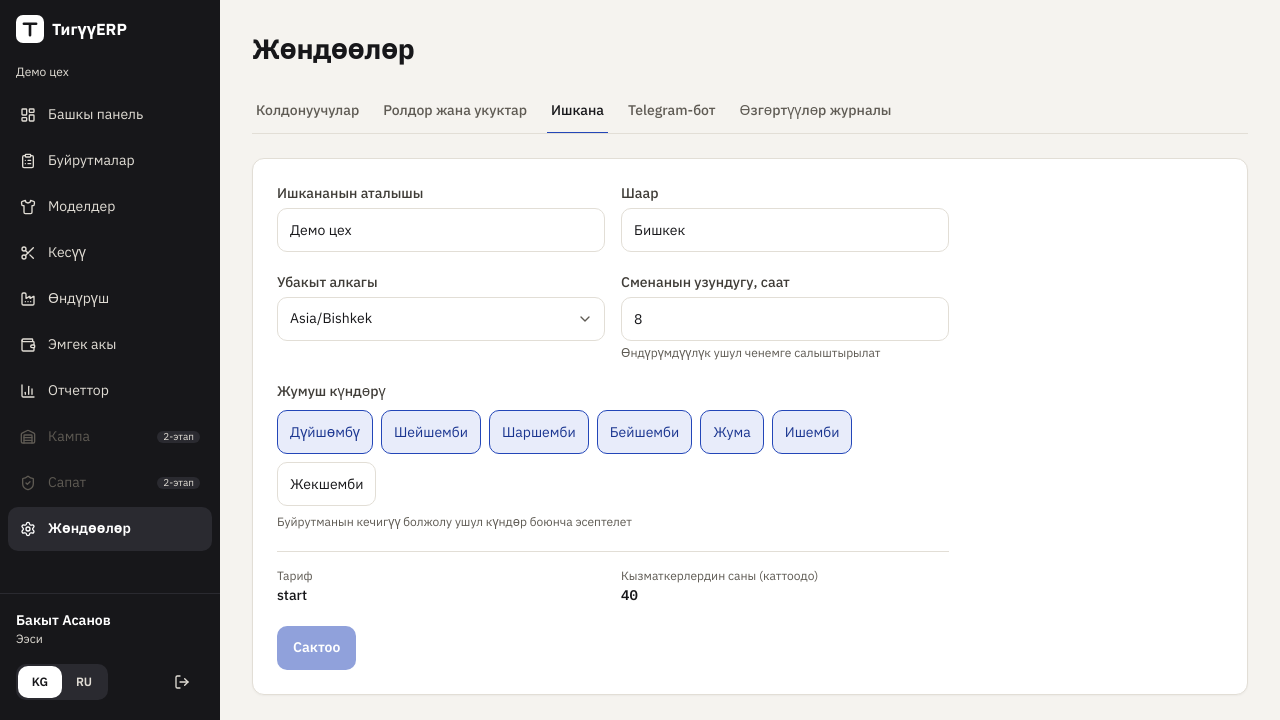
Test: settings (2.10) › saves company work days and records it in the audit log
Replace the text in the number field labelled "Сменанын узундугу, саат" with "9": x=785, y=319 [621,297,949,341]
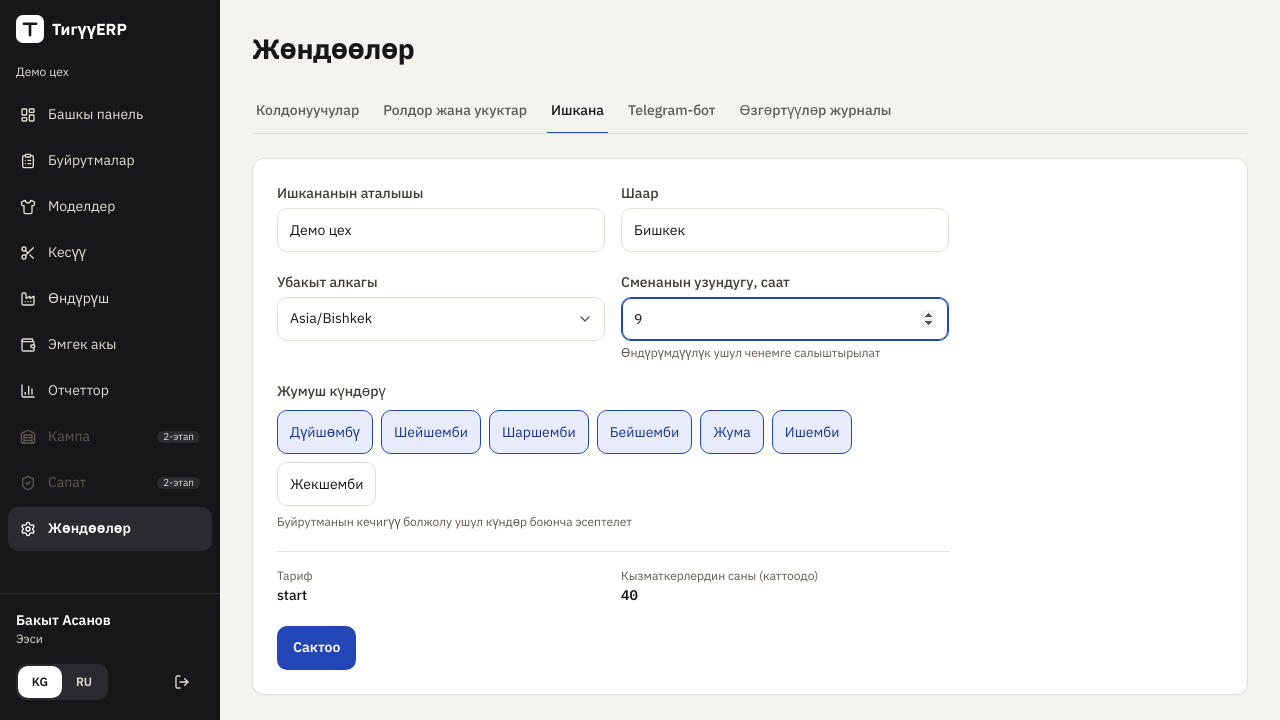
Click the button "Сактоо": x=317, y=648 [277,626,356,670]
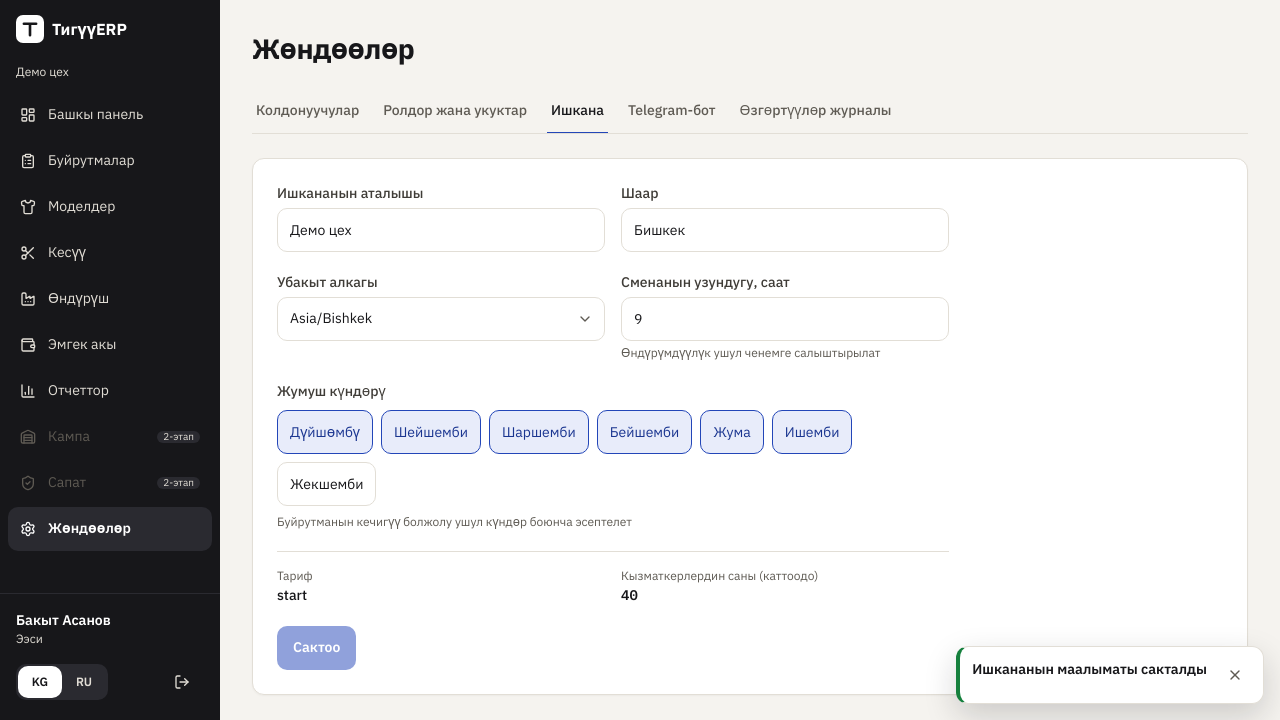
Now the text "Ишкананын маалыматы сакталды" is shown, box [972,659,1207,680]
Click the tab "Өзгөртүүлөр журналы": x=816, y=112 [736,90,896,134]
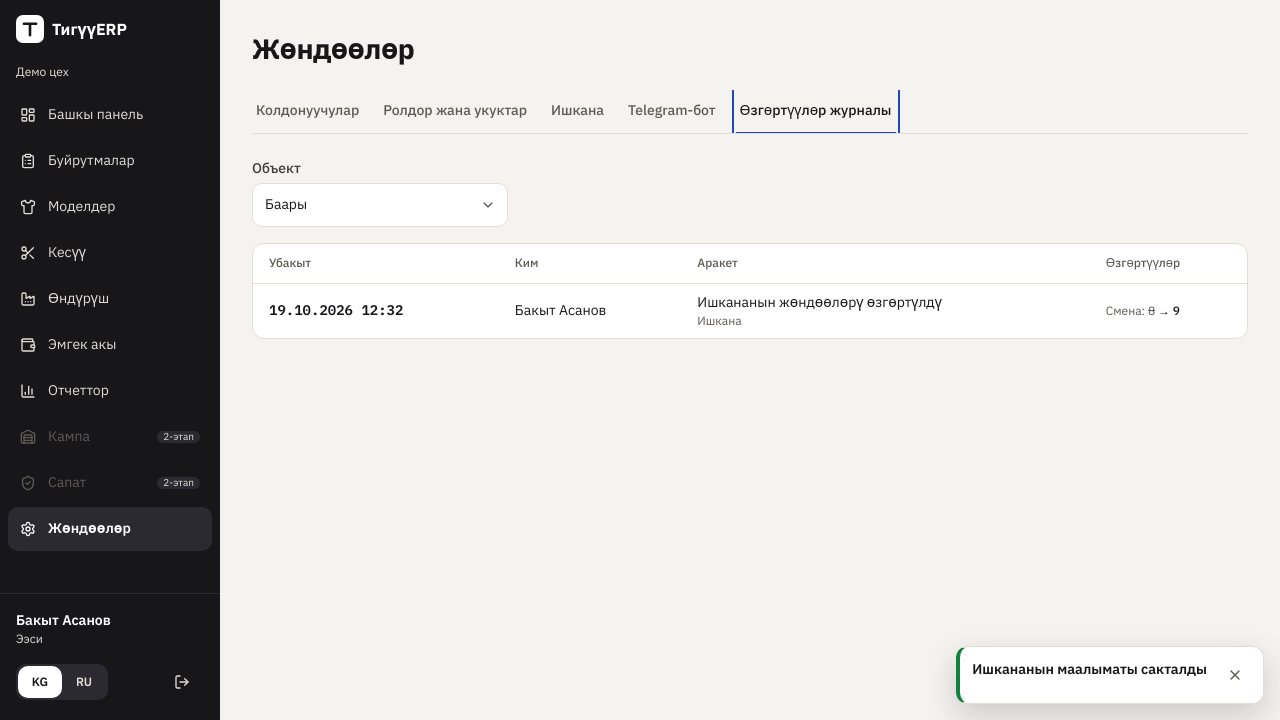
Now the text "Ишкананын жөндөөлөрү өзгөртүлдү" is shown, box [697,293,942,311]
